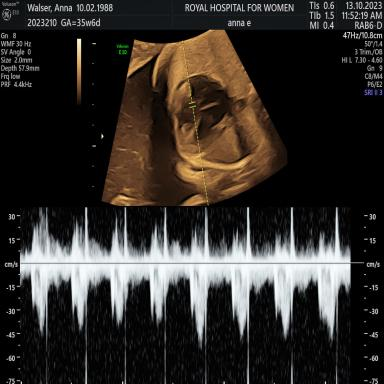Ultrasound-Waves: (27, 206, 350, 384)
